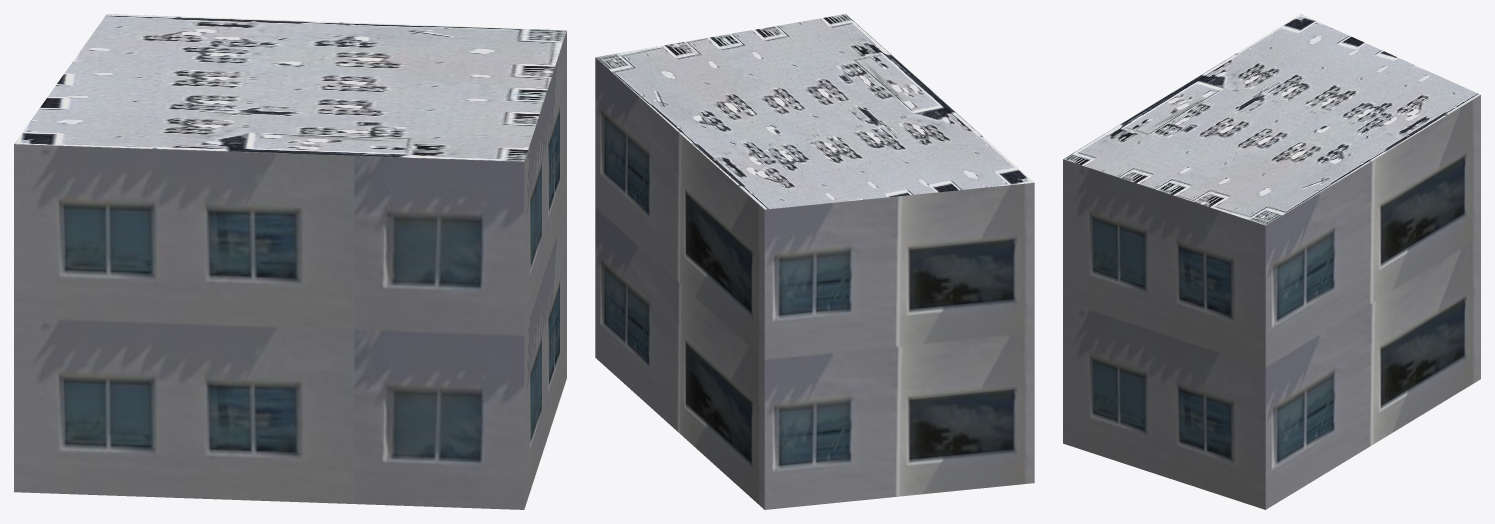
The model's file is ResTex__4814.fbx.
3 views of the same model, side by side, from view 1: azimuth 30°, elevation 25°; view 2: azimuth 150°, elevation 25°; view 3: azimuth 270°, elevation 25° (orthographic). The views are drawn at different scales.
Visible parts, largest first — view 1: CityEngineMaterial_10_m, CityEngineMaterial_4_m; view 2: CityEngineMaterial_10_m, CityEngineMaterial_4_m; view 3: CityEngineMaterial_10_m, CityEngineMaterial_4_m.
Boxes of the visible parts, box(x1,y1,x2,y2) form: CityEngineMaterial_10_m: box(14, 31, 566, 509); CityEngineMaterial_4_m: box(14, 14, 566, 161); CityEngineMaterial_10_m: box(595, 57, 1034, 509); CityEngineMaterial_4_m: box(595, 14, 1033, 209); CityEngineMaterial_10_m: box(1063, 95, 1480, 509); CityEngineMaterial_4_m: box(1063, 14, 1480, 225).
Bounding box in the file's own units: 9.58 × 6 × 7.99.
Materials: 2 (2 with a texture image).
